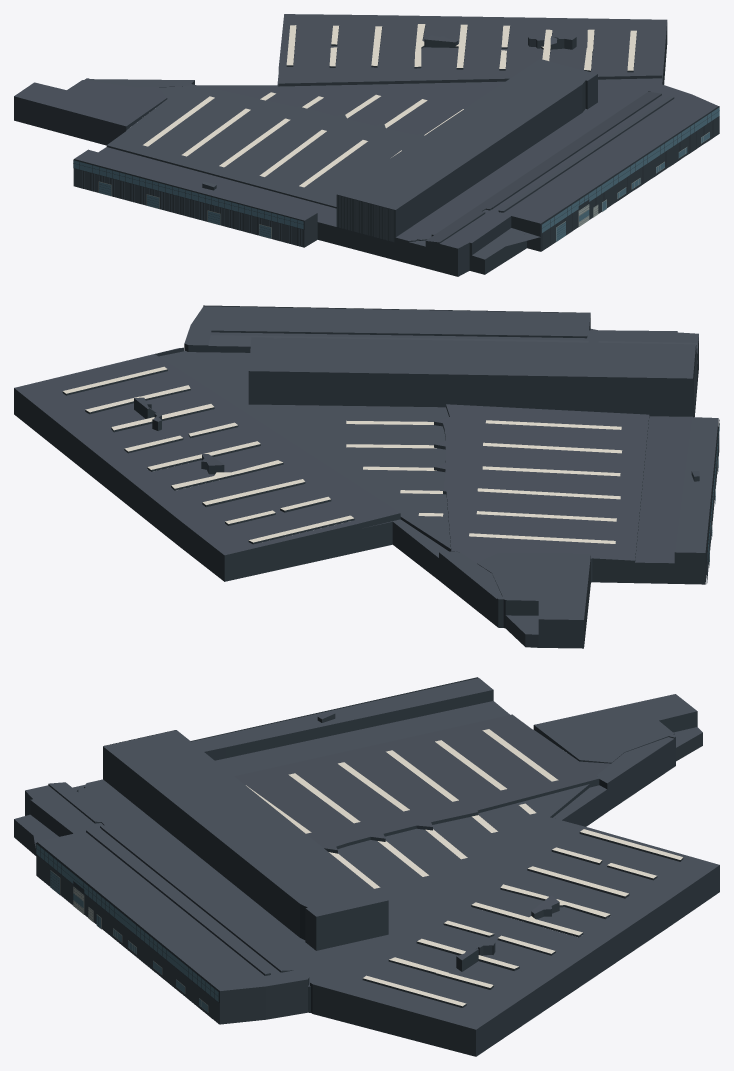
Rendered from monk-amsterdam.glb.
3 renders of one model, top to bottom at view 1: azimuth 30°, elevation 25°; view 2: azimuth 150°, elevation 25°; view 3: azimuth 270°, elevation 25°, orthographic. The views are drawn at different scales.
Visible parts, largest first — view 1: monk-amsterdam; view 2: monk-amsterdam; view 3: monk-amsterdam.
Part boxes in pixels (bbox=[...]): monk-amsterdam: bbox=[14, 14, 719, 276]; monk-amsterdam: bbox=[14, 305, 719, 648]; monk-amsterdam: bbox=[14, 677, 719, 1056].
Bounding box in the file's own units: 181 × 14.65 × 155.
